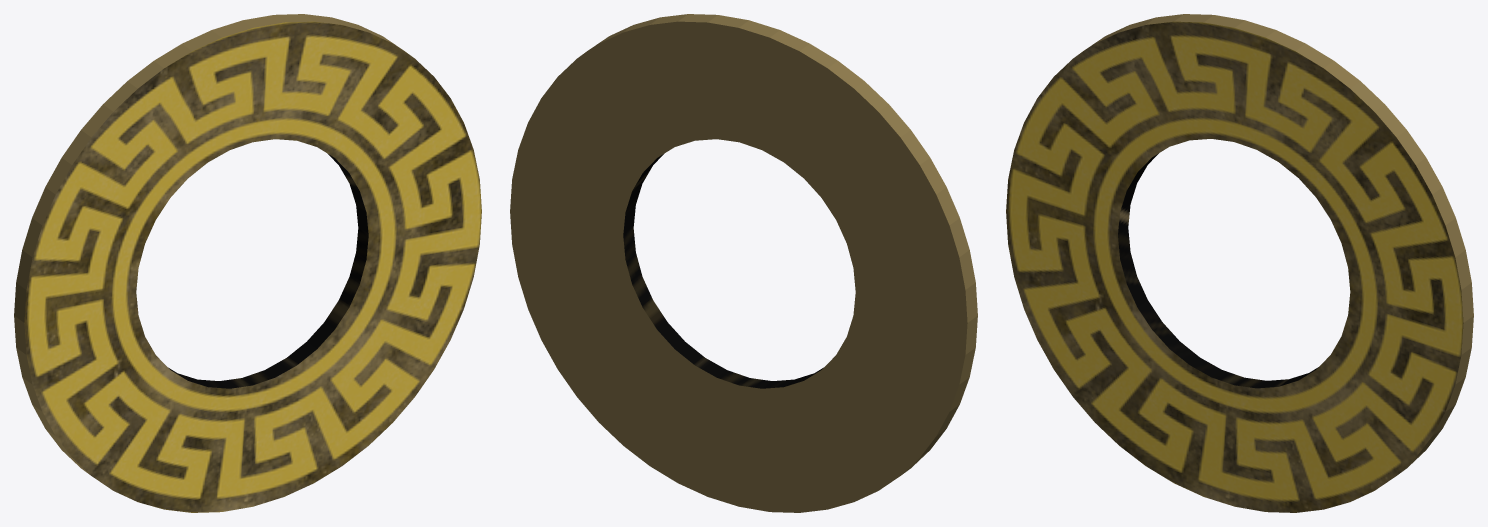
File: window.glb
3 renders of one model, left to right at view 1: azimuth 30°, elevation 25°; view 2: azimuth 150°, elevation 25°; view 3: azimuth 330°, elevation 25°, orthographic.
Parts seen in each view (by area): view 1: BézierCircle; view 2: BézierCircle; view 3: BézierCircle.
Part boxes in pixels (box(x1,y1,x2,y2)): BézierCircle: box(14, 14, 481, 512); BézierCircle: box(510, 14, 977, 512); BézierCircle: box(1006, 14, 1473, 512).
Bounding box in the file's own units: 126 × 126 × 4.96.
Materials: 1 (1 with a texture image).
